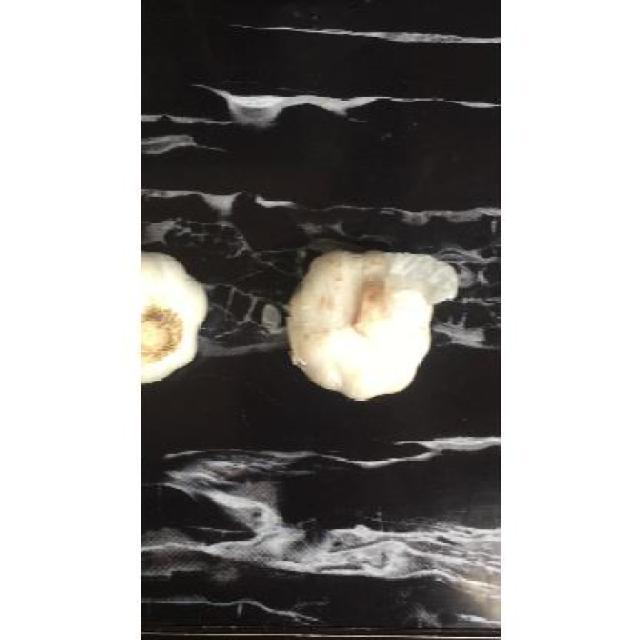garlic: (288, 251, 458, 401), (141, 252, 208, 382)
